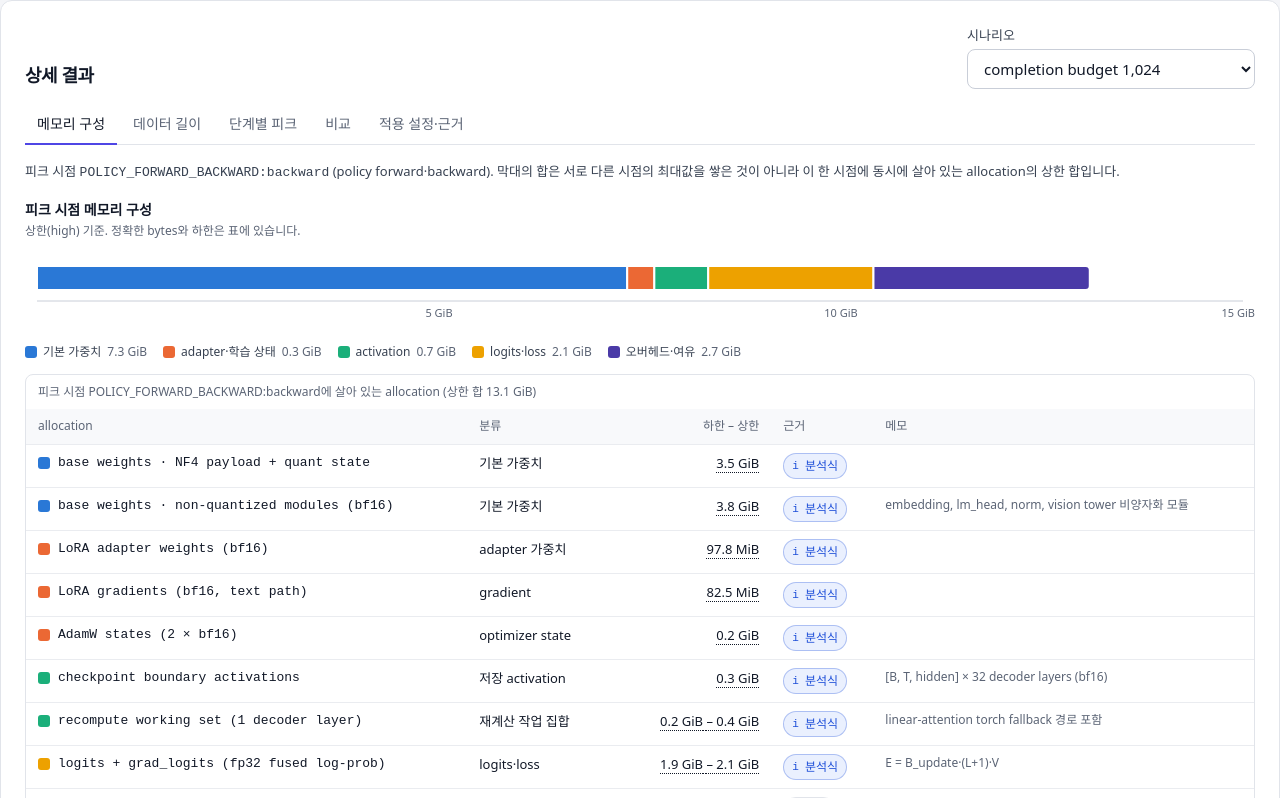
Test: detail tabs › explains that the GRPO context check adds the smallest completion budget
Step 1. Click the tab "데이터 길이" → click(167, 125), box [121,105,213,145]
(page scrolled)
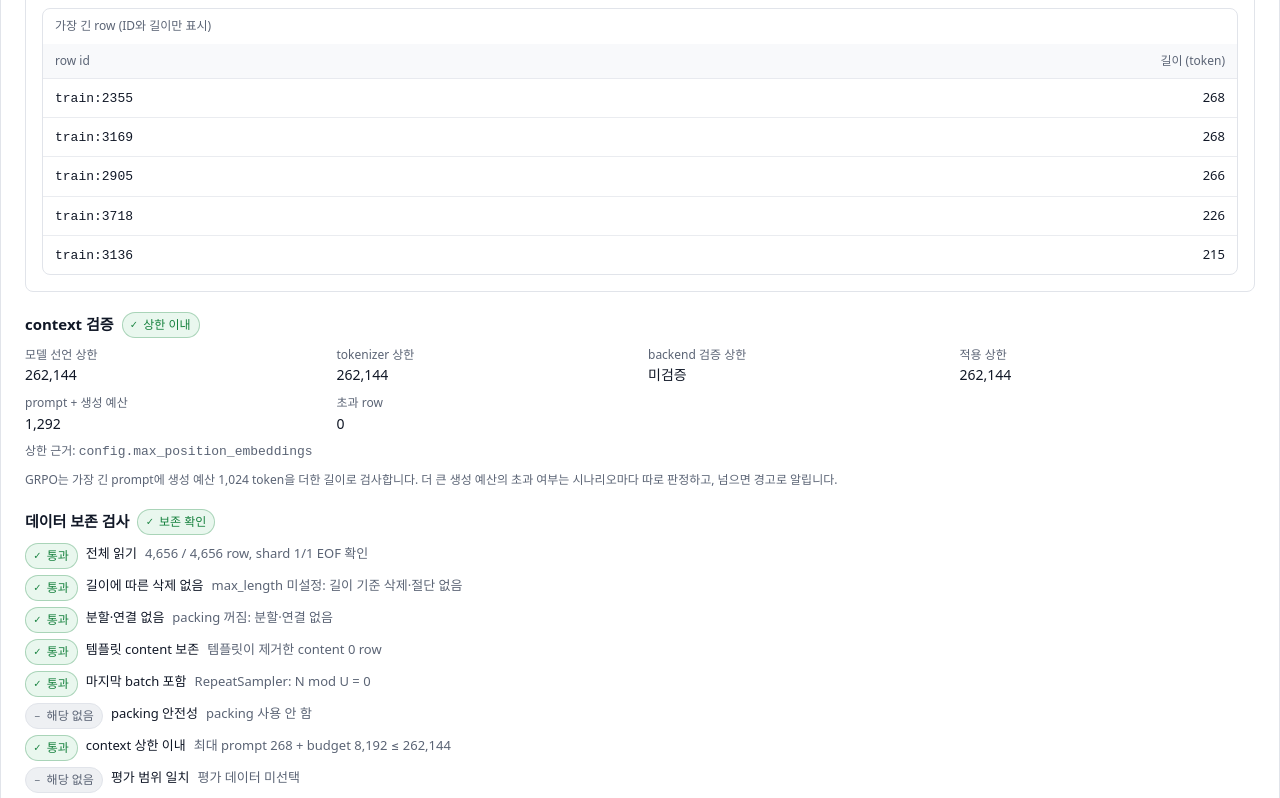
Expected: the element "context 검증" does not show "관측 최대", [25,312,1011,488]
Expected: the element "context 검증" shows "GRPO는 가장 긴 prompt에 생성 예산 1,024 token을 더한 길이로 검사합니다.", [25,312,1011,488]
